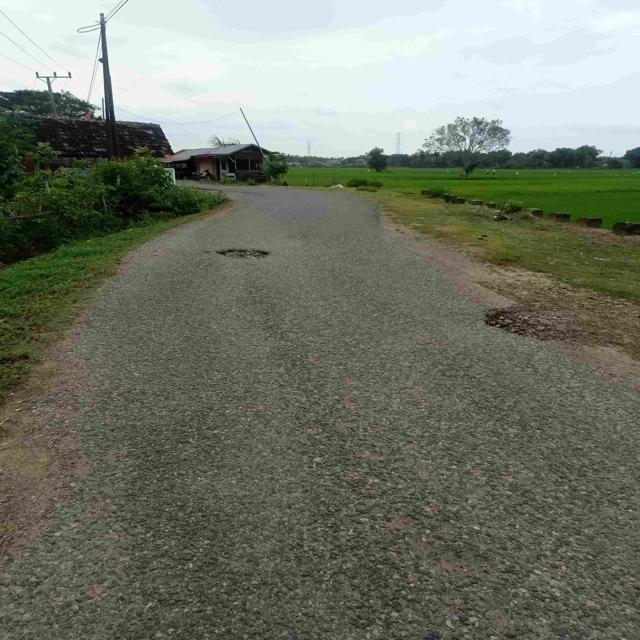Lubang: (206, 241, 278, 269)
Pinggir: (468, 276, 640, 352)
